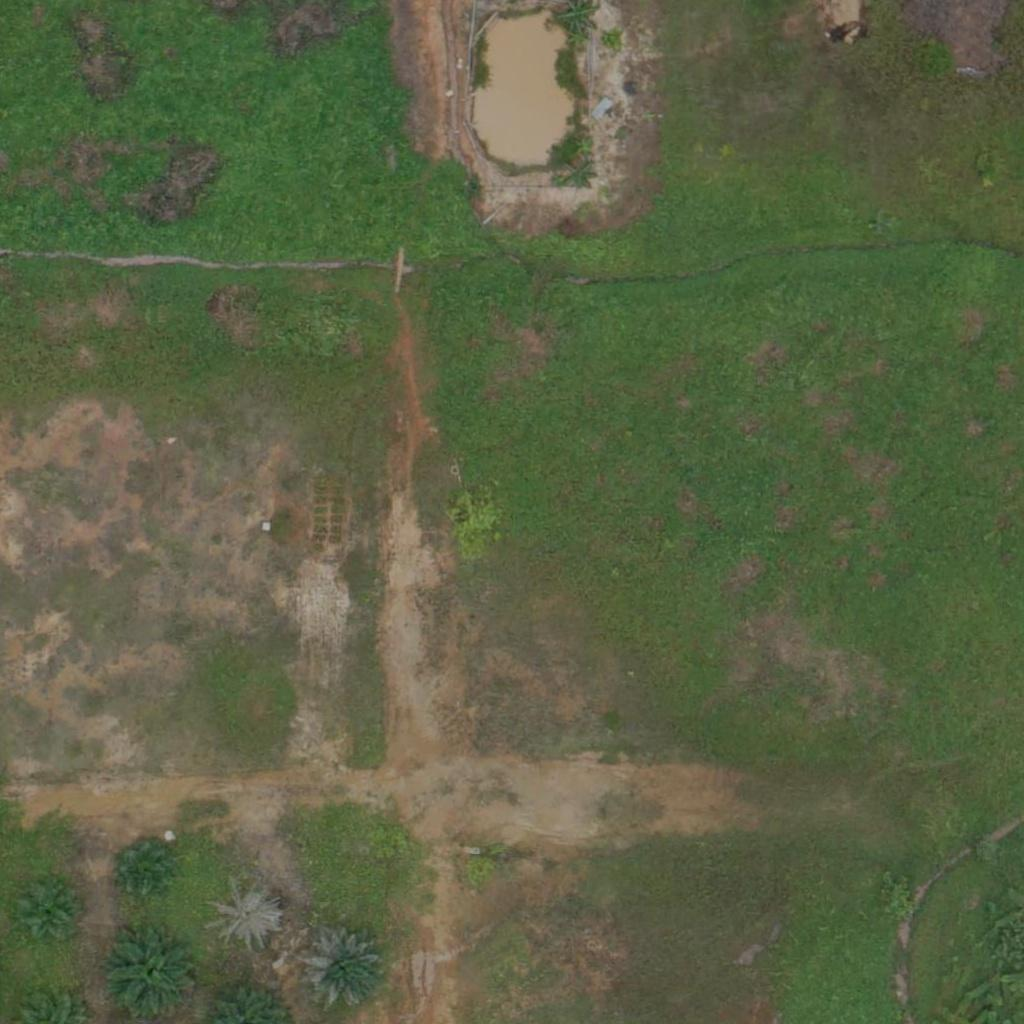Kelapa_Sawit: (297, 926, 385, 1014), (208, 877, 283, 953), (16, 876, 79, 939), (112, 837, 174, 899)
